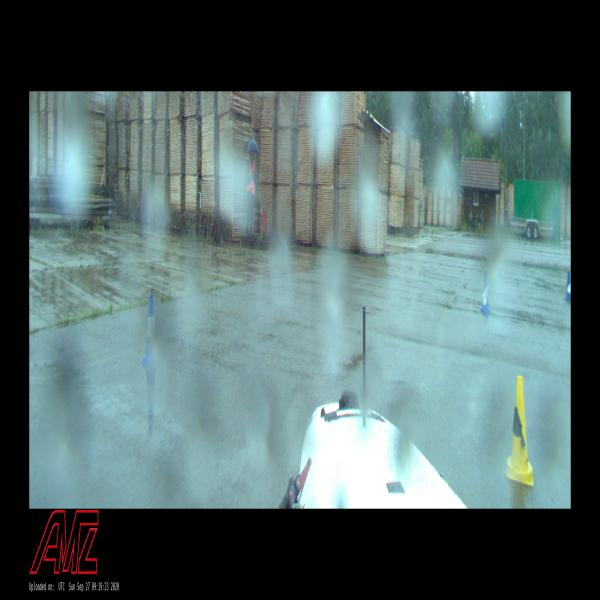blue_cone: (141, 296, 158, 367), (481, 273, 489, 313), (564, 270, 570, 304)
yellow_cone: (506, 376, 534, 486)
